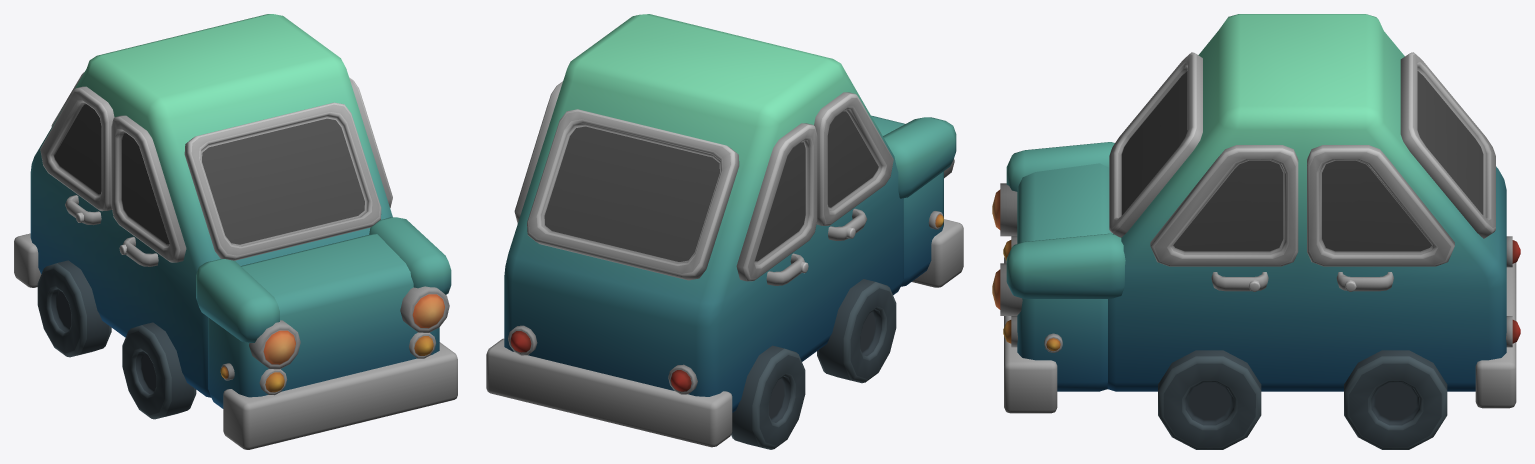
Rendered from mct_car_06.fbx.
3 renders of one model, left to right at view 1: azimuth 30°, elevation 25°; view 2: azimuth 150°, elevation 25°; view 3: azimuth 270°, elevation 25°, orthographic. The views are drawn at different scales.
Visible parts, largest first — view 1: mct_car_06, mct_car_06_w; view 2: mct_car_06, mct_car_06_w; view 3: mct_car_06, mct_car_06_w.
Boxes of the visible parts, x1,y1,x2,y2 form: mct_car_06: (14, 14, 457, 449); mct_car_06_w: (37, 260, 196, 419); mct_car_06: (486, 14, 963, 447); mct_car_06_w: (731, 279, 896, 449); mct_car_06: (992, 14, 1520, 413); mct_car_06_w: (1158, 350, 1447, 449).
Bounding box in the file's own units: 130 × 159 × 231.
